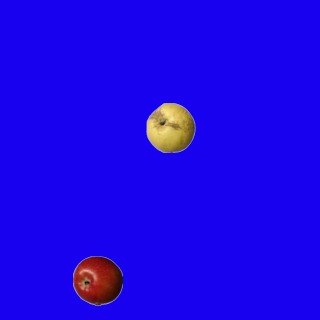Apple Braeburn: (72, 255, 122, 305)
Apple Golden 1: (145, 102, 195, 152)
